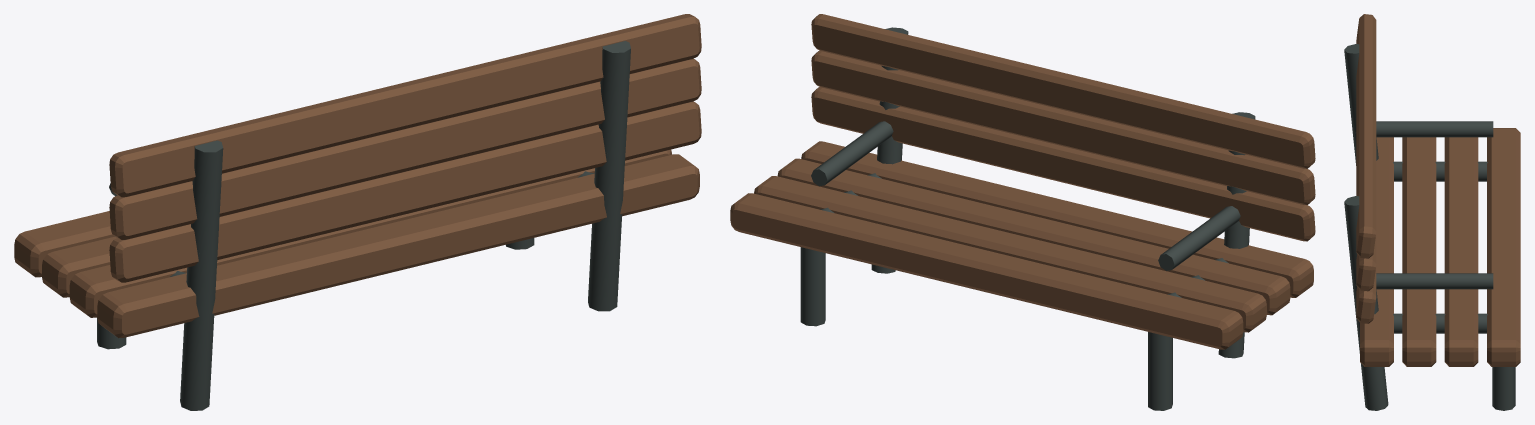
File: bench.glb
3 views of the same model, side by side, from view 1: azimuth 30°, elevation 25°; view 2: azimuth 150°, elevation 25°; view 3: azimuth 270°, elevation 25° (orthographic). The views are drawn at different scales.
Visible parts, largest first — view 1: bench; view 2: bench; view 3: bench.
Boxes of the visible parts, x1,y1,x2,y2 form: bench: (14, 14, 701, 410); bench: (730, 14, 1315, 410); bench: (1344, 14, 1520, 410).
Bounding box in the file's own units: 2.44 × 1.1 × 0.8348.
